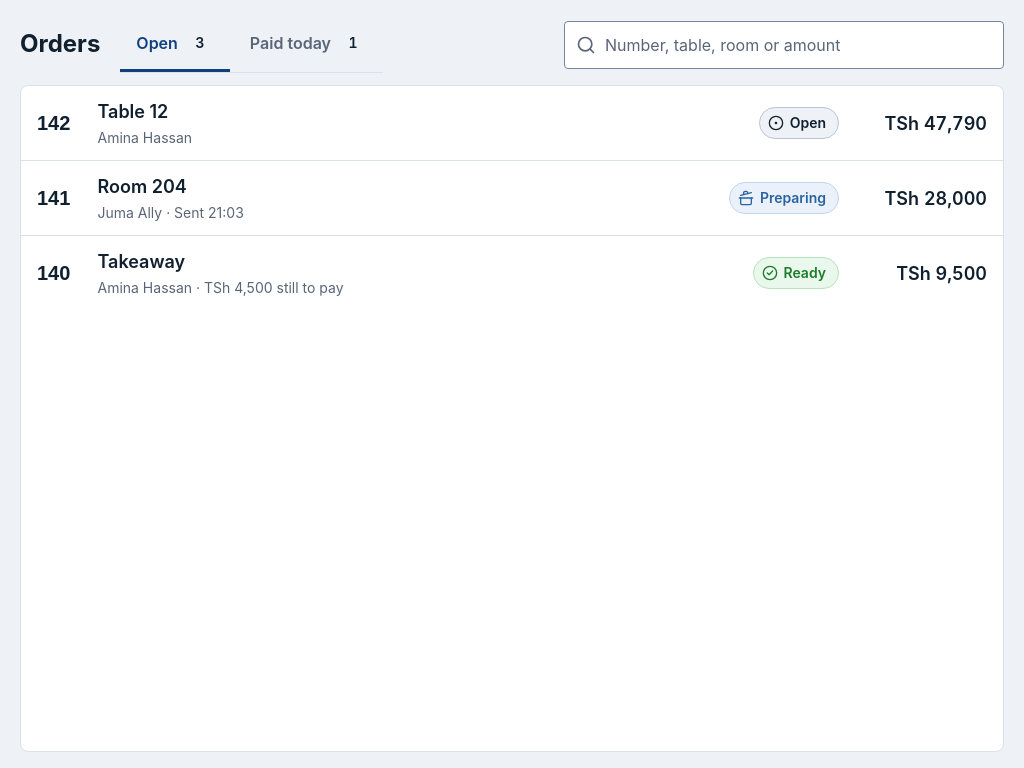
Test: OrdersView › shows today's paid orders on the other tab
Click the tab "Paid today 1": (308, 44) [234, 16, 383, 72]
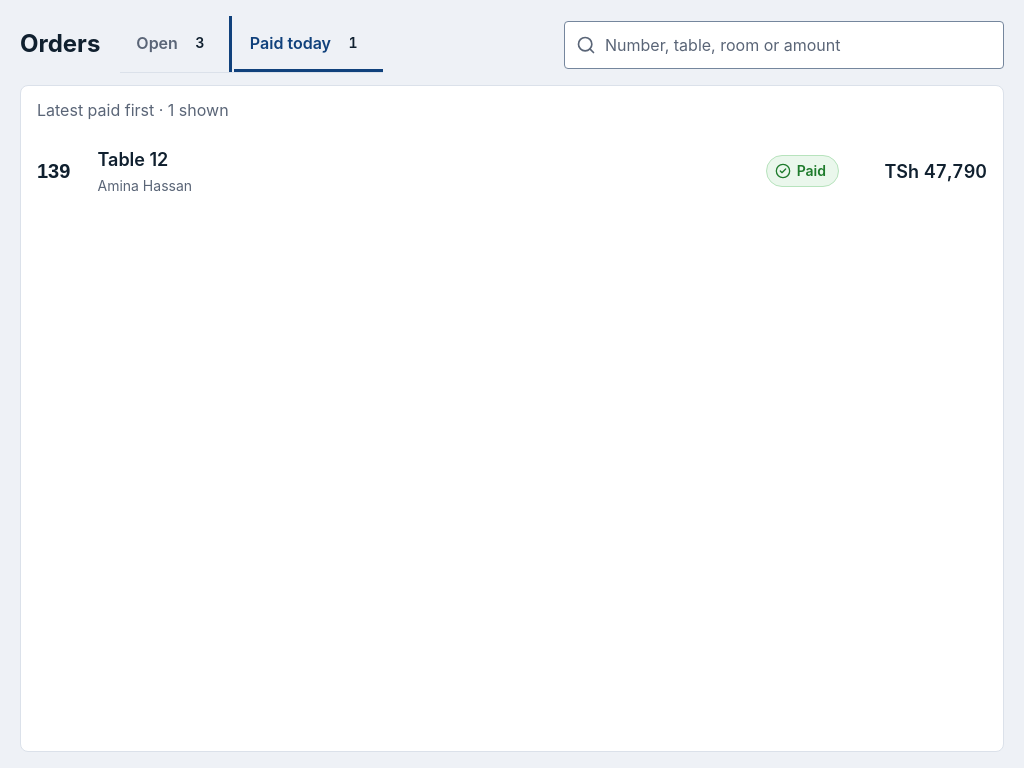
Check: the button with test id "order-row-0139" shows "Paid", box [21, 134, 1003, 208]
Check: the button with test id "order-row-0142" is gone
